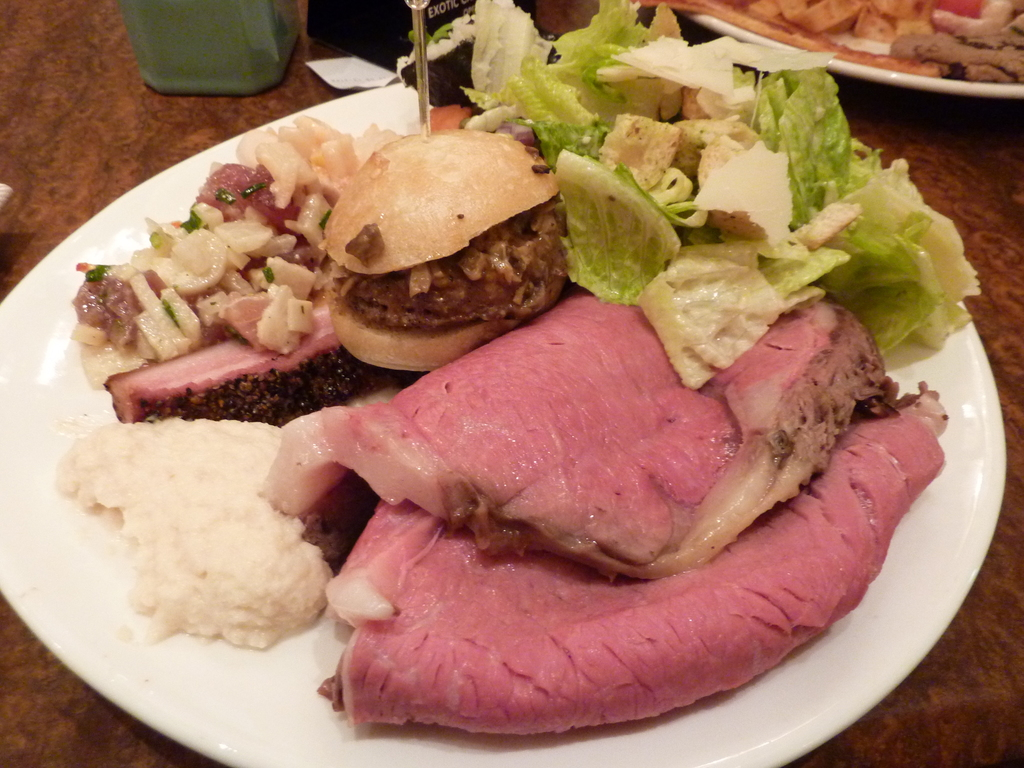Hamburger: (323, 126, 568, 374)
